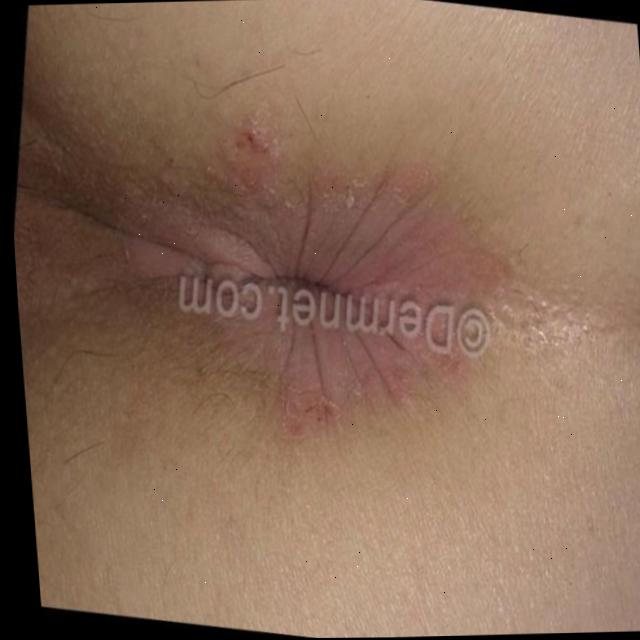Eczema: (125, 99, 515, 464)
